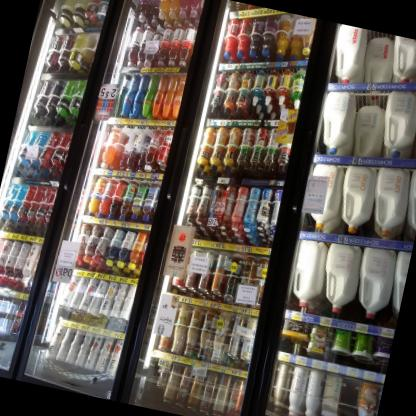empty_space: (331, 372, 364, 416)
